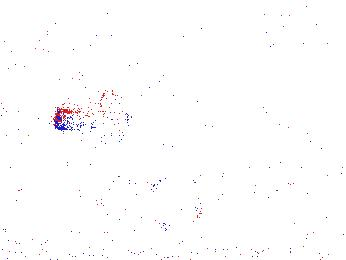flame jellyfish: (53, 90, 137, 150), (94, 167, 154, 226), (150, 174, 205, 228)
